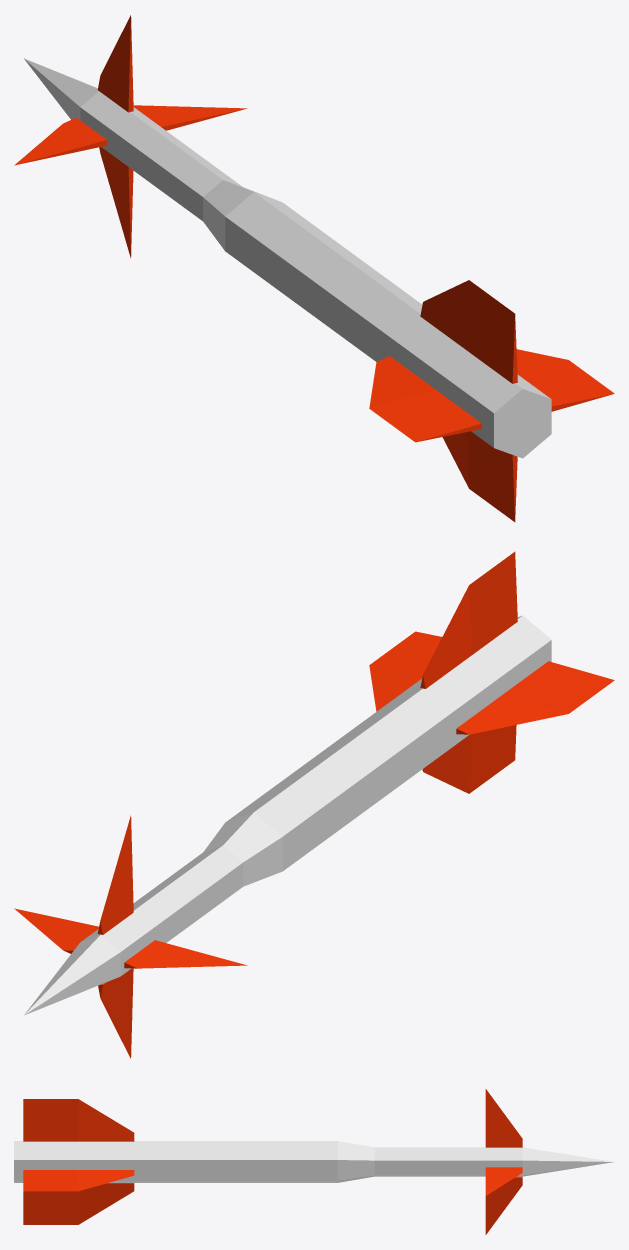
File: missile.glb
3 renders of one model, top to bottom at view 1: azimuth 30°, elevation 25°; view 2: azimuth 150°, elevation 25°; view 3: azimuth 270°, elevation 25°, orthographic. The views are drawn at different scales.
Parts seen in each view (by area): view 1: Cube.001; view 2: Cube.001; view 3: Cube.001.
Part boxes in pixels (x1,y1,x2,y2): Cube.001: (14, 15, 614, 522); Cube.001: (14, 551, 614, 1058); Cube.001: (14, 1089, 613, 1234).
Size of the model in its own units: 0.176 by 0.176 by 0.65.
